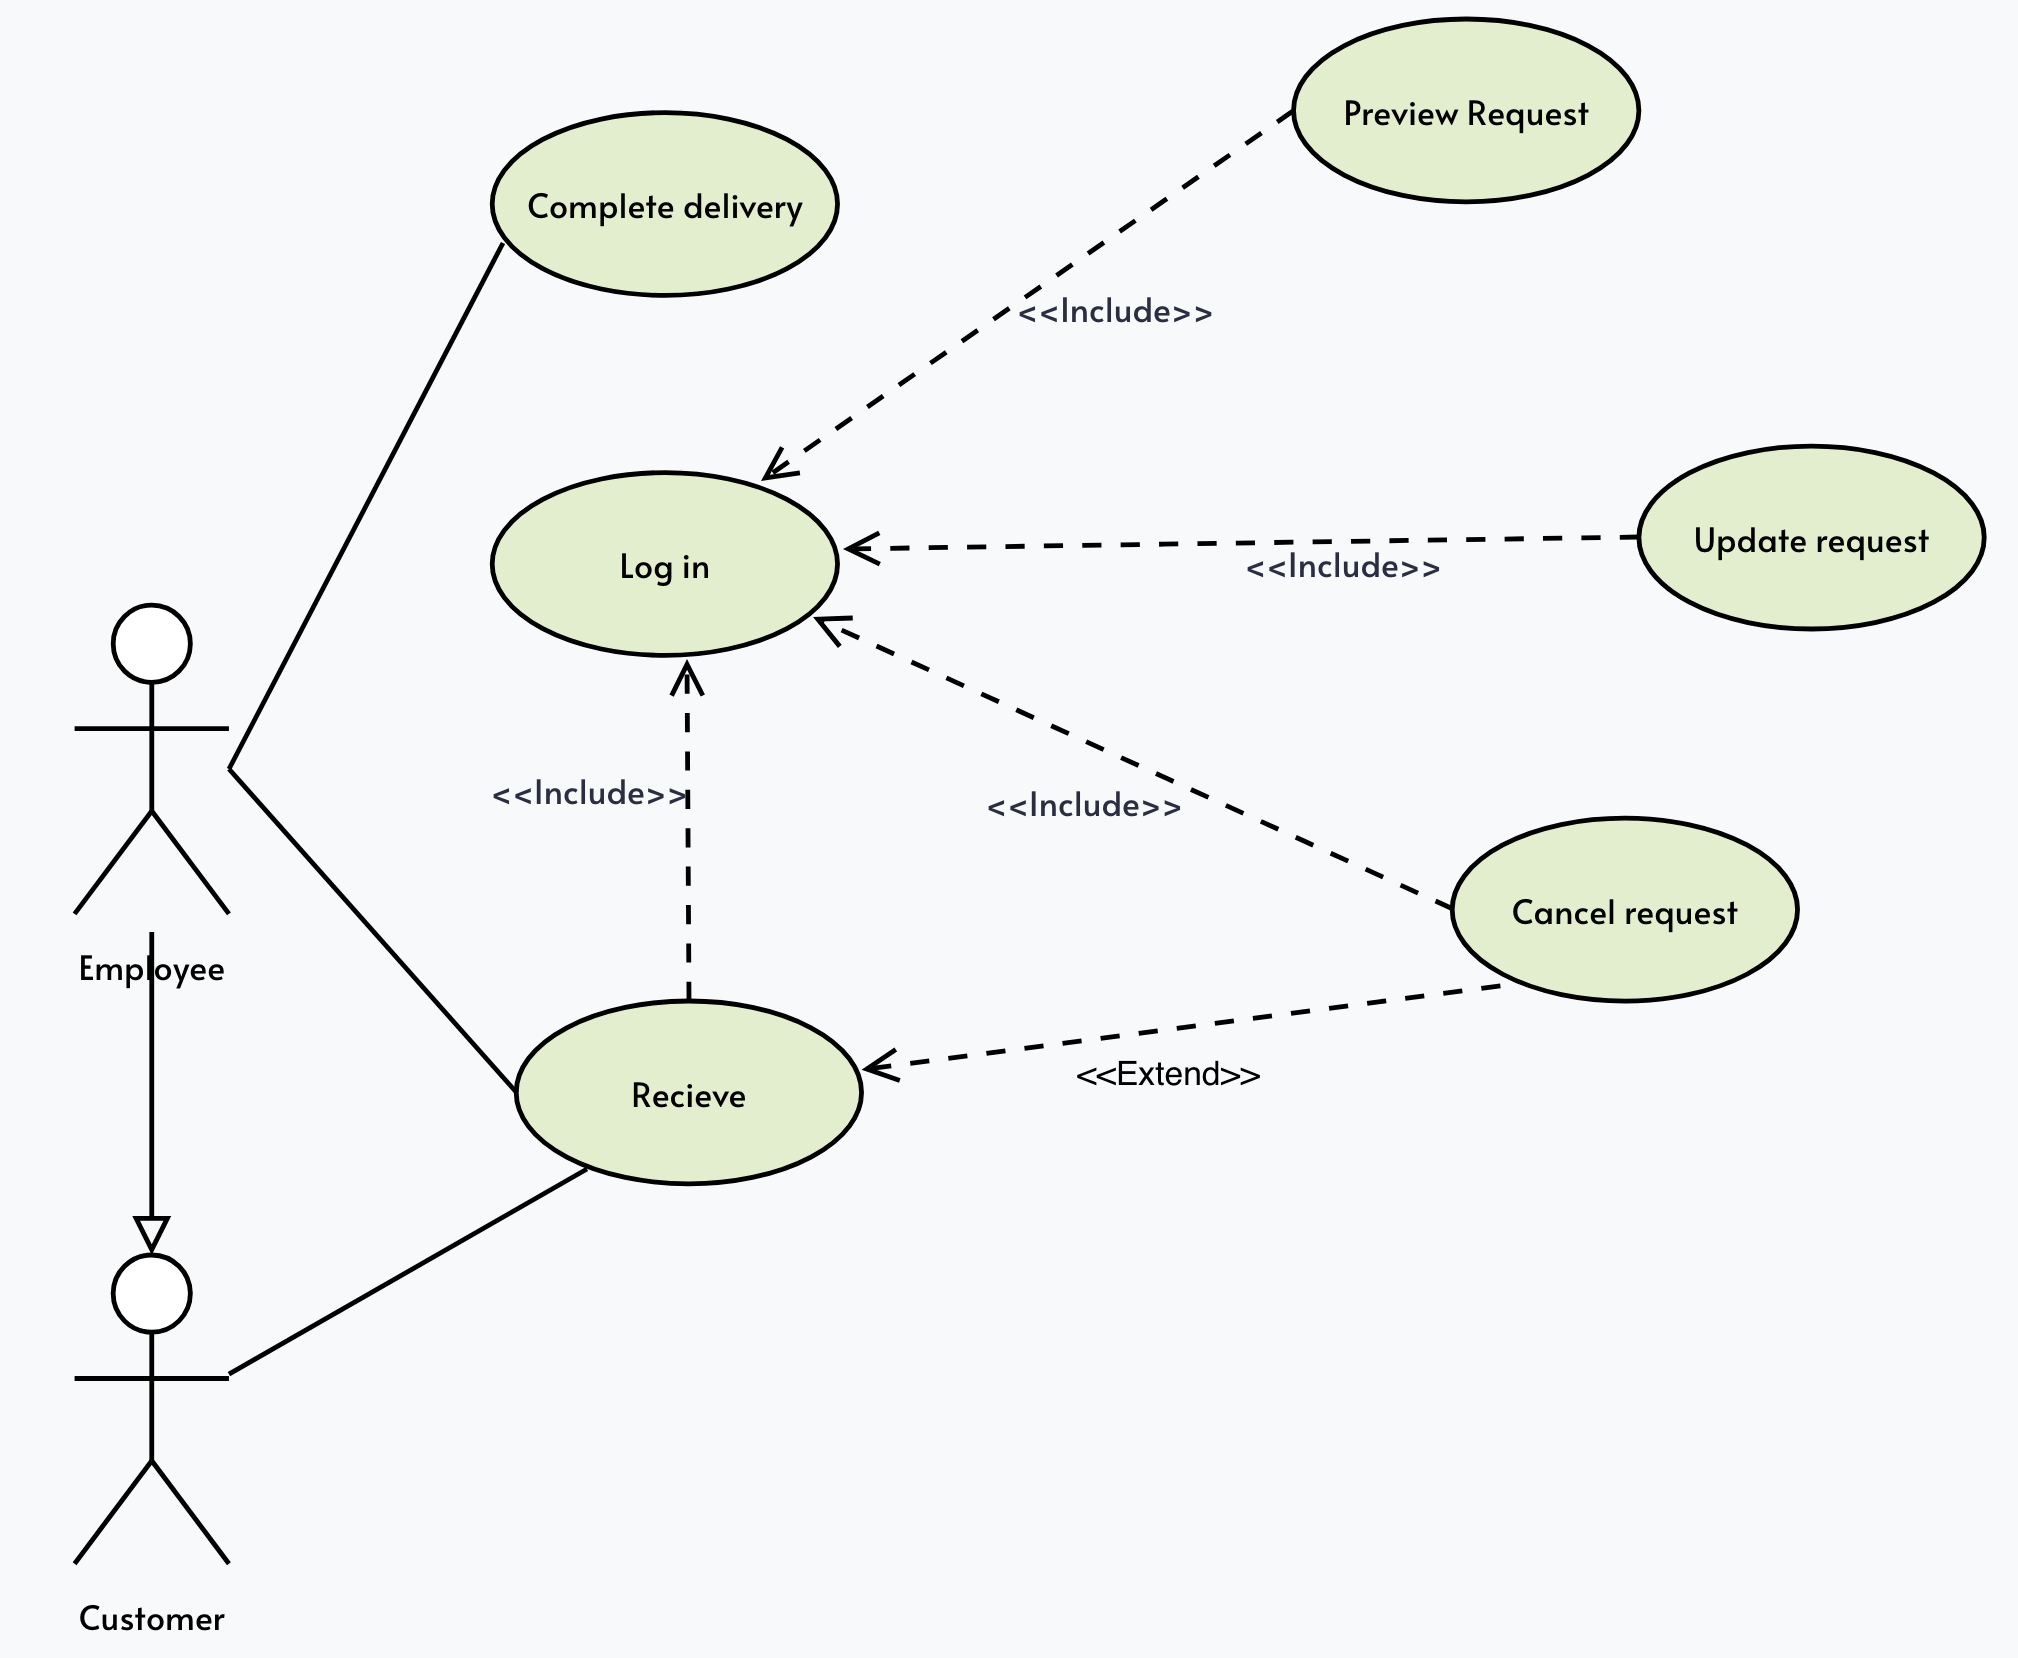actor: (69, 598, 238, 919), (70, 1252, 236, 1569)
association: (758, 101, 1292, 479), (815, 610, 1455, 917), (225, 235, 506, 764), (221, 759, 516, 1090), (226, 1162, 592, 1375), (863, 979, 1503, 1085), (845, 525, 1644, 568), (664, 655, 716, 997), (131, 927, 174, 1252)
text: (525, 188, 811, 233), (1341, 91, 1592, 141), (1508, 890, 1750, 939), (1689, 518, 1934, 565), (981, 786, 1187, 828), (1237, 552, 1457, 588), (1074, 1053, 1265, 1095), (489, 775, 682, 815), (1022, 293, 1225, 330), (70, 949, 236, 992), (75, 1598, 231, 1640), (624, 1075, 751, 1113), (613, 548, 717, 588)
use_case: (1631, 443, 1988, 635), (486, 107, 845, 298), (493, 469, 845, 661), (1291, 17, 1644, 206), (515, 999, 865, 1187), (1451, 815, 1798, 1004)
